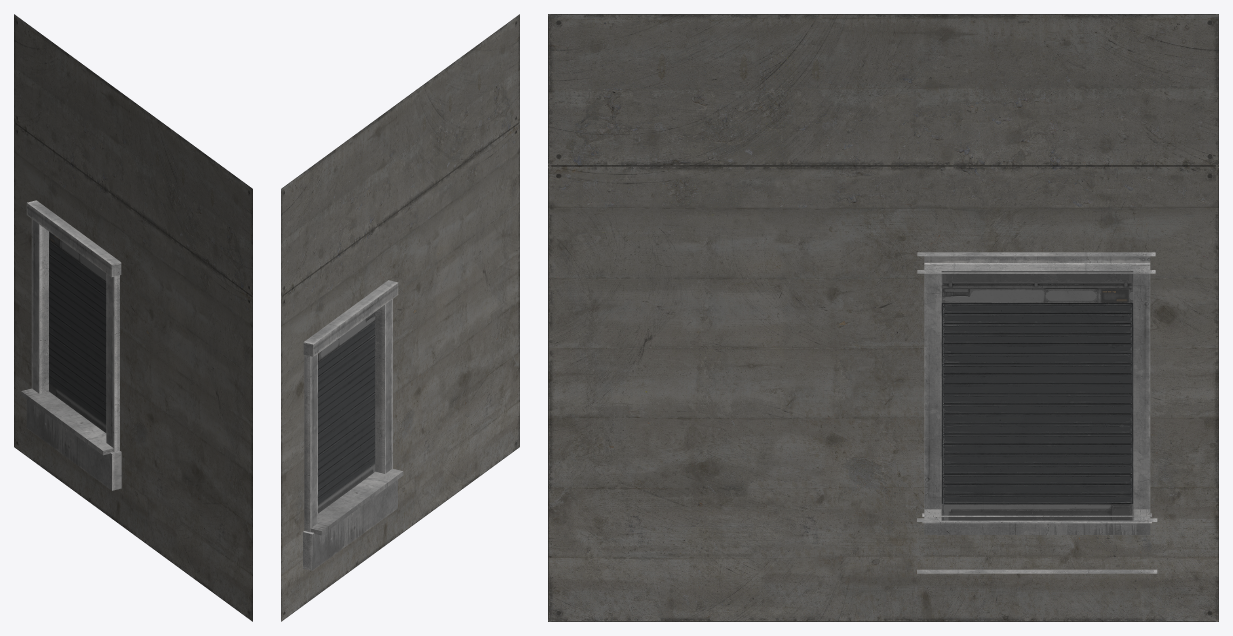
File: CP_Windows_4x4m_01.fbx
The picture shows the model from 3 angles, left to right: view 1: azimuth 30°, elevation 25°; view 2: azimuth 150°, elevation 25°; view 3: azimuth 270°, elevation 25°; orthographic projection. The views are drawn at different scales.
Visible parts, largest first — view 1: CP_Windows_4x4m_01; view 2: CP_Windows_4x4m_01; view 3: CP_Windows_4x4m_01.
Boxes of the visible parts, x1,y1,x2,y2 form: CP_Windows_4x4m_01: (14, 14, 252, 621); CP_Windows_4x4m_01: (281, 14, 519, 621); CP_Windows_4x4m_01: (548, 14, 1218, 621).
Bounding box in the file's own units: 22.8 × 400 × 400.
